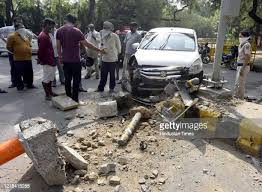accident: (99, 33, 204, 140)
